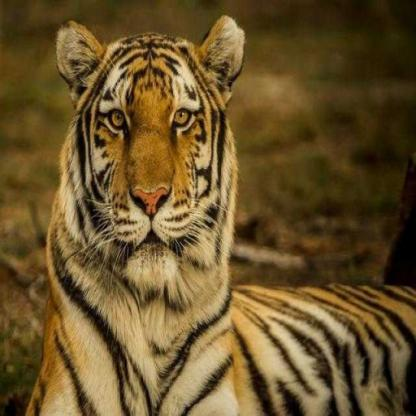Tiger: (32, 22, 415, 409)
